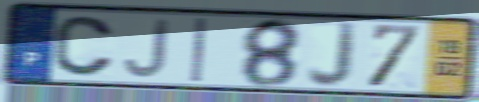7: (369, 23, 423, 90)
8: (239, 15, 304, 90)
C: (51, 14, 117, 79)
I: (189, 15, 210, 84)
J: (304, 18, 361, 91), (122, 17, 172, 80)
